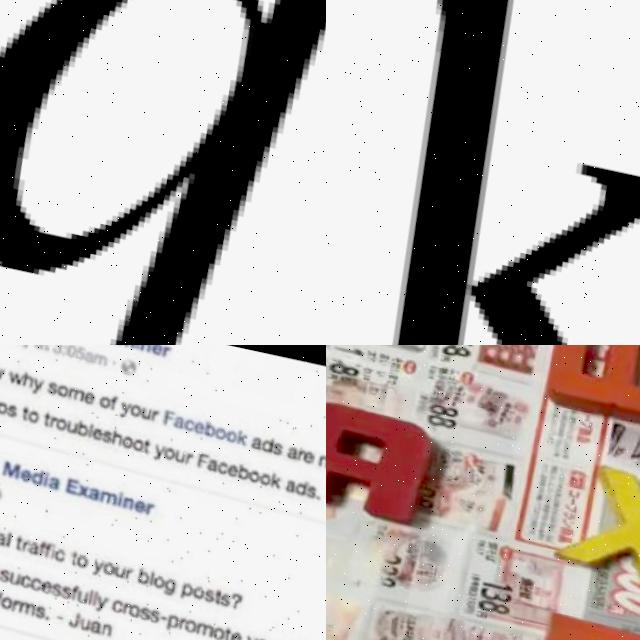0: (62, 345, 76, 356)
3: (49, 345, 63, 353)
5: (72, 345, 86, 359)
A: (326, 393, 433, 526)
K: (326, 0, 640, 345)
Q: (0, 0, 326, 345)
W: (543, 345, 640, 426)
X: (556, 462, 640, 600)
